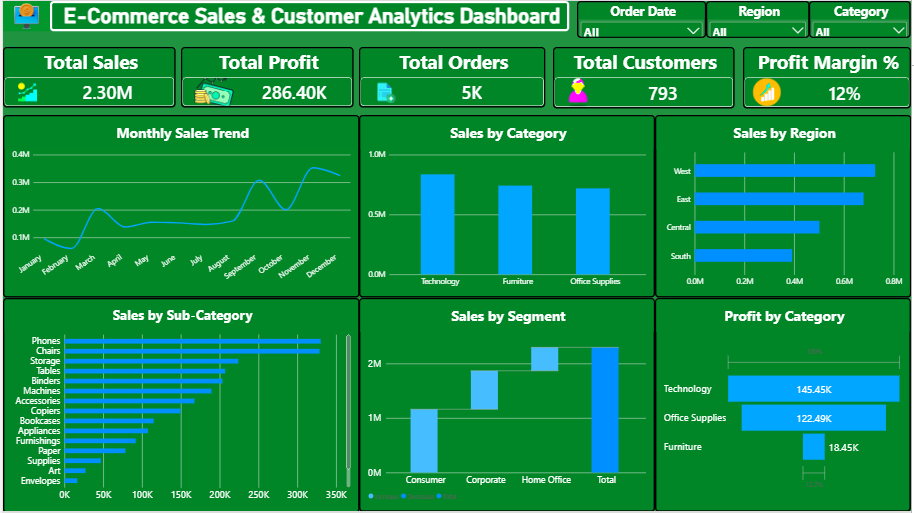

The dashboard page shown, as its layout file describes it:
{"tool":"powerbi","page":{"name":"Executive Overview","canvas":[1920,1080],"ordinal":0},"visuals":[{"type":"cardVisual","title":"Profit Margin %","fields":{"Data":["Superstore.Profit Margin %"]},"box":[1564.9,97,355.1,130.1],"z":0},{"type":"cardVisual","title":"Total Orders","fields":{"Data":["Superstore.Total Orders"]},"box":[753.5,97,394.3,128],"z":1000},{"type":"cardVisual","title":"Total Profit","fields":{"Data":["Superstore.Total Profit"]},"box":[375.7,97,365.4,128],"z":2000},{"type":"cardVisual","title":"Total Sales","fields":{"Data":["Superstore.Total Sales"]},"box":[0,97,365.4,128],"z":3000},{"type":"cardVisual","title":"Total Customers","fields":{"Data":["Superstore.Total Customers"]},"box":[1162.3,97,384,130.1],"z":4000},{"type":"lineChart","title":"Monthly Sales Trend","fields":{"Category":["Superstore.Order Date.Variation.Date Hierarchy.Month"],"Y":["Superstore.Total Sales"]},"box":[0,241.5,753.5,386.1],"z":5000},{"type":"clusteredColumnChart","title":"Sales by Category","fields":{"Category":["Superstore.Category"],"Y":["Superstore.Total Sales"]},"box":[753.5,241.5,625.5,386.1],"z":6000},{"type":"funnel","title":"Profit by Category","fields":{"Category":["Superstore.Category"],"Y":["Superstore.Total Profit"]},"box":[1379.1,627.6,540.9,452.1],"z":7000},{"type":"clusteredBarChart","title":"Sales by Sub-Category","fields":{"Category":["Superstore.Sub-Category"],"Y":["Superstore.Total Sales"]},"box":[0,627.6,753.5,454.2],"z":8000},{"type":"clusteredBarChart","title":"Sales by Region","fields":{"Category":["Superstore.Region"],"Y":["Superstore.Total Sales"]},"box":[1378.3,241.9,541.7,385.5],"z":9000},{"type":"waterfallChart","title":"Sales by Segment","fields":{"Category":["Superstore.Segment"],"Y":["Superstore.Total Sales"]},"box":[753.5,627.6,625.5,452.1],"z":10000},{"type":"slicer","title":"Order Date","fields":{"Values":["Superstore.Order Date"]},"box":[1213.9,0,272.5,78.5],"z":11000},{"type":"slicer","title":"Region","fields":{"Values":["Superstore.Region"]},"box":[1486.5,0,218.8,78.5],"z":12000},{"type":"slicer","title":"Category","fields":{"Values":["Superstore.Category"]},"box":[1705.3,0,214.7,78.5],"z":13000},{"type":"textbox","title":"E-Commerce Sales & Customer Analytics Dashboard","box":[99.1,0,1098.3,64],"z":14000},{"type":"image","box":[0,0,99.1,64],"z":15000}]}

Visuals, with their boxes in screenshot pixels (x1, y1, x2, y2), scaled from the page's 1920x1080 canvas onto the 914x513 screenshot:
"Profit Margin %" cardVisual: locate(745, 46, 913, 108)
"Total Orders" cardVisual: locate(359, 46, 546, 107)
"Total Profit" cardVisual: locate(179, 46, 353, 107)
"Total Sales" cardVisual: locate(0, 46, 174, 107)
"Total Customers" cardVisual: locate(553, 46, 736, 108)
"Monthly Sales Trend" lineChart: locate(0, 115, 359, 298)
"Sales by Category" clusteredColumnChart: locate(359, 115, 656, 298)
"Profit by Category" funnel: locate(657, 298, 913, 512)
"Sales by Sub-Category" clusteredBarChart: locate(0, 298, 359, 512)
"Sales by Region" clusteredBarChart: locate(656, 115, 913, 298)
"Sales by Segment" waterfallChart: locate(359, 298, 656, 512)
"Order Date" slicer: locate(578, 0, 708, 37)
"Region" slicer: locate(708, 0, 812, 37)
"Category" slicer: locate(812, 0, 913, 37)
"E-Commerce Sales & Customer Analytics Dashboard" textbox: locate(47, 0, 570, 30)
image: locate(0, 0, 47, 30)
